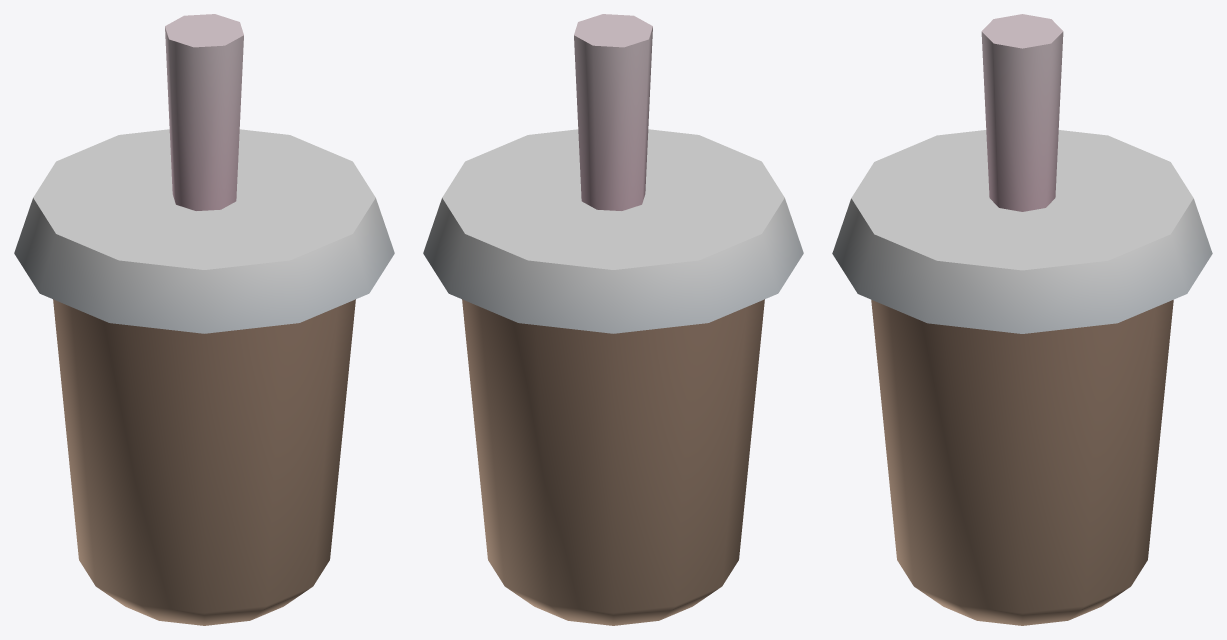
Rendered from boba-tea-flat.glb.
The picture shows the model from 3 angles, left to right: view 1: azimuth 30°, elevation 25°; view 2: azimuth 150°, elevation 25°; view 3: azimuth 270°, elevation 25°; orthographic projection.
Parts seen in each view (by area): view 1: boba-tea-flat; view 2: boba-tea-flat; view 3: boba-tea-flat.
Boxes of the visible parts, bbox=[...] form: boba-tea-flat: bbox=[14, 14, 394, 625]; boba-tea-flat: bbox=[423, 14, 803, 625]; boba-tea-flat: bbox=[832, 14, 1212, 625].
Size of the model in its own units: 0.1891 by 0.305 by 0.1891.
